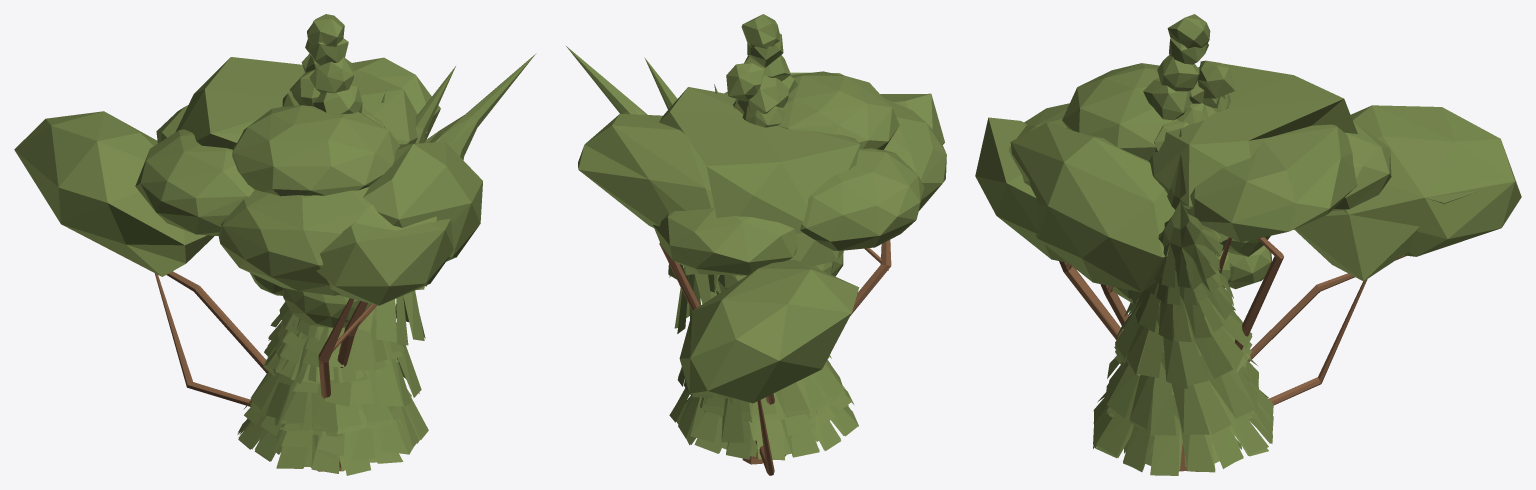
The model's file is Trees.fbx.
The picture shows the model from 3 angles, left to right: view 1: azimuth 30°, elevation 25°; view 2: azimuth 150°, elevation 25°; view 3: azimuth 270°, elevation 25°; orthographic projection. The views are drawn at different scales.
Visible parts, largest first — view 1: Tree_02, Tree_05, Tree_01, Tree_06, Pin_06, Pin_07, Tree_03, Pin_05, Pin_03, Tree_04, Pin_04, Pin_02; view 2: Tree_01, Tree_02, Tree_05, Tree_06, Pin_06, Tree_03, Pin_07, Pin_05, Pin_03, Tree_04; view 3: Tree_01, Pin_06, Tree_02, Tree_03, Tree_05, Tree_06, Tree_04, Pin_07, Pin_05, Pin_03.
Part boxes in pixels (x1,y1,x2,y2): Tree_02: (58,57,453,406); Tree_05: (135,105,399,235); Tree_01: (14,57,482,373); Tree_06: (156,105,438,467); Pin_06: (243,53,536,460); Pin_07: (238,66,455,475); Tree_03: (282,14,384,127); Pin_05: (238,92,413,475); Pin_03: (239,301,399,470); Tree_04: (250,273,371,328); Pin_04: (238,313,407,472); Pin_02: (239,316,407,474); Tree_01: (578,72,851,404); Tree_02: (659,87,944,475); Tree_05: (777,71,924,250); Tree_06: (653,98,946,275); Pin_06: (566,46,854,442); Tree_03: (726,14,797,127); Pin_07: (644,57,858,460); Pin_05: (676,84,858,459); Pin_03: (690,384,845,458); Tree_04: (718,252,843,292); Tree_01: (1010,105,1521,361); Pin_06: (1093,200,1273,475); Tree_02: (975,63,1507,471); Tree_03: (1143,14,1270,256); Tree_05: (1062,63,1177,160); Tree_06: (1009,103,1391,211); Tree_04: (1112,245,1271,303); Pin_07: (1093,153,1273,473); Pin_05: (1093,128,1273,460); Pin_03: (1094,301,1258,472).
Size of the model in its own units: 455 by 506 by 557.
Materials: 2 (2 with a texture image).
